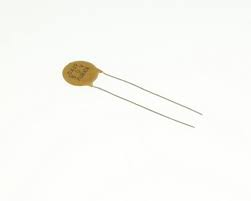ceramic capacitor: (38, 47, 133, 106)
